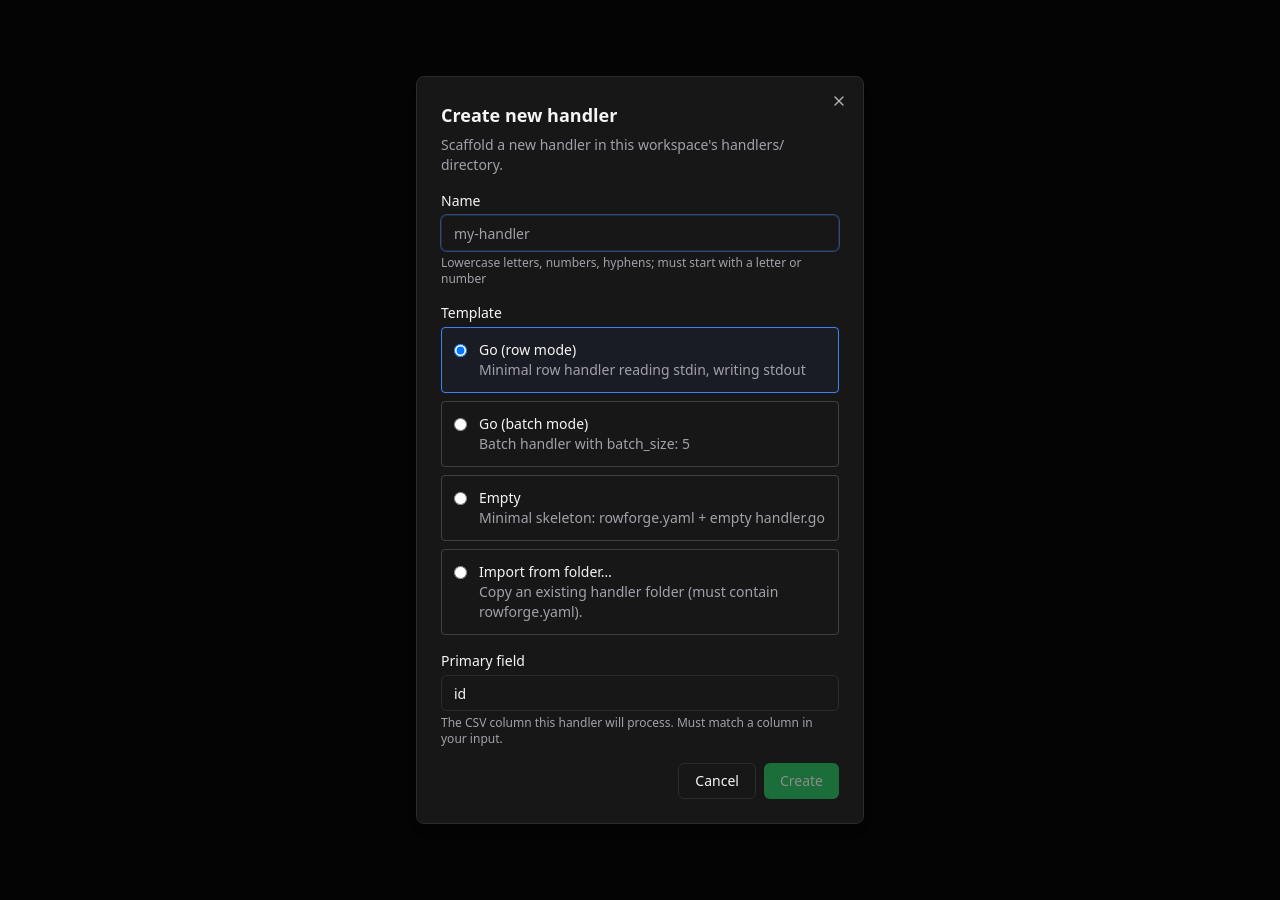
Scenario: ScaffoldDialog › Import from folder radio reveals folder picker + hides primary_field
expect the field labelled "Primary field" is shown: met, box [441,675,839,711]
Click the radio button labelled "Import from folder". click: (460, 572)
box: [454,566,467,579]
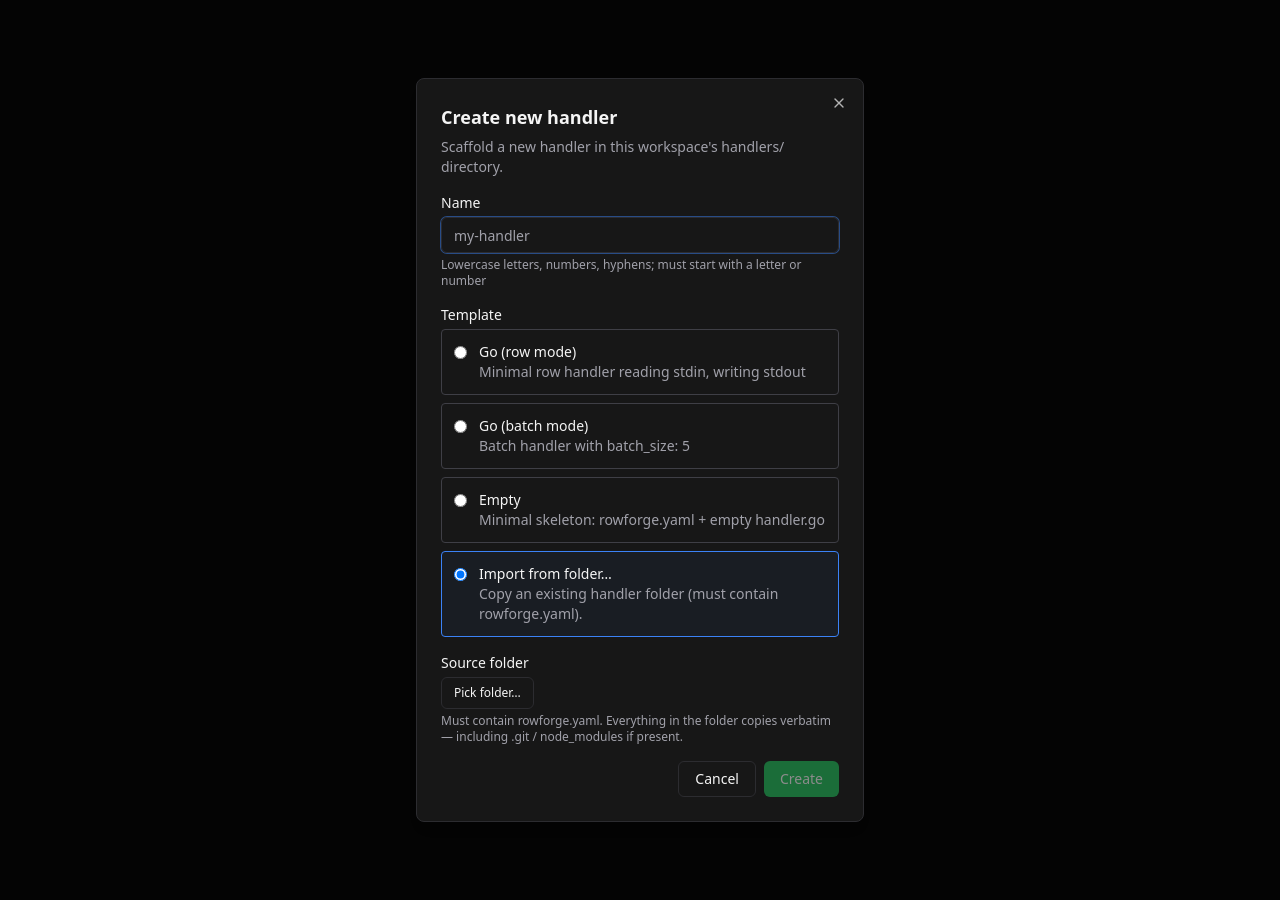
expect the label labelled "Primary field" is gone: met
expect the button "Pick folder…" is shown: met, box [441,677,534,709]
